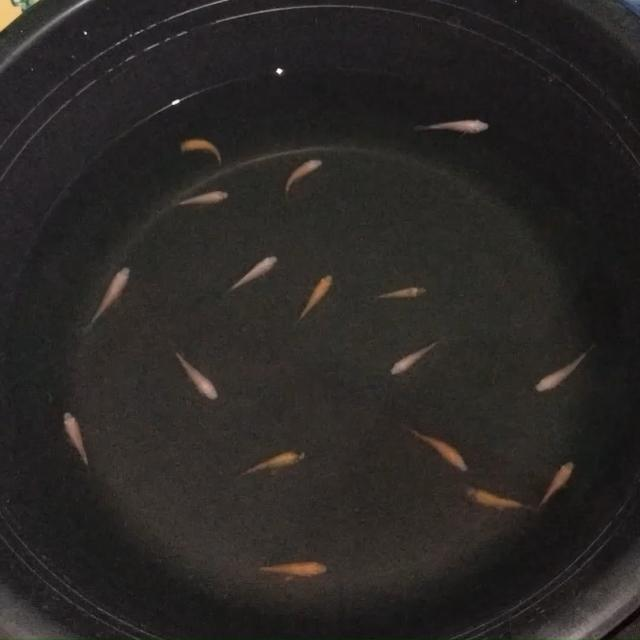nila: (84, 262, 135, 328), (406, 426, 471, 476), (227, 446, 311, 482), (172, 347, 221, 404), (533, 346, 590, 394), (293, 268, 335, 326), (389, 336, 444, 380), (59, 406, 95, 473), (225, 250, 282, 292), (284, 154, 327, 208), (464, 484, 540, 514), (250, 556, 333, 581), (540, 452, 575, 509), (177, 134, 230, 166), (413, 115, 493, 136), (168, 186, 234, 210), (378, 282, 436, 304)
